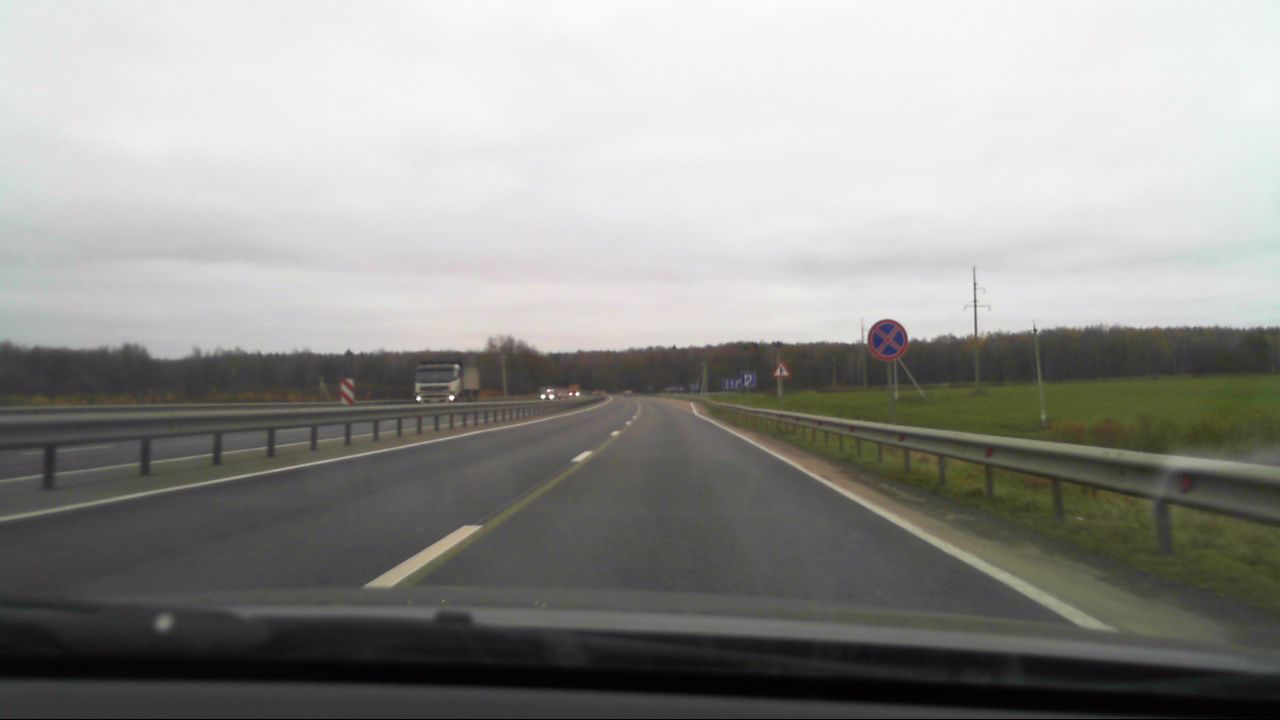No Parking: (866, 318, 909, 361)
